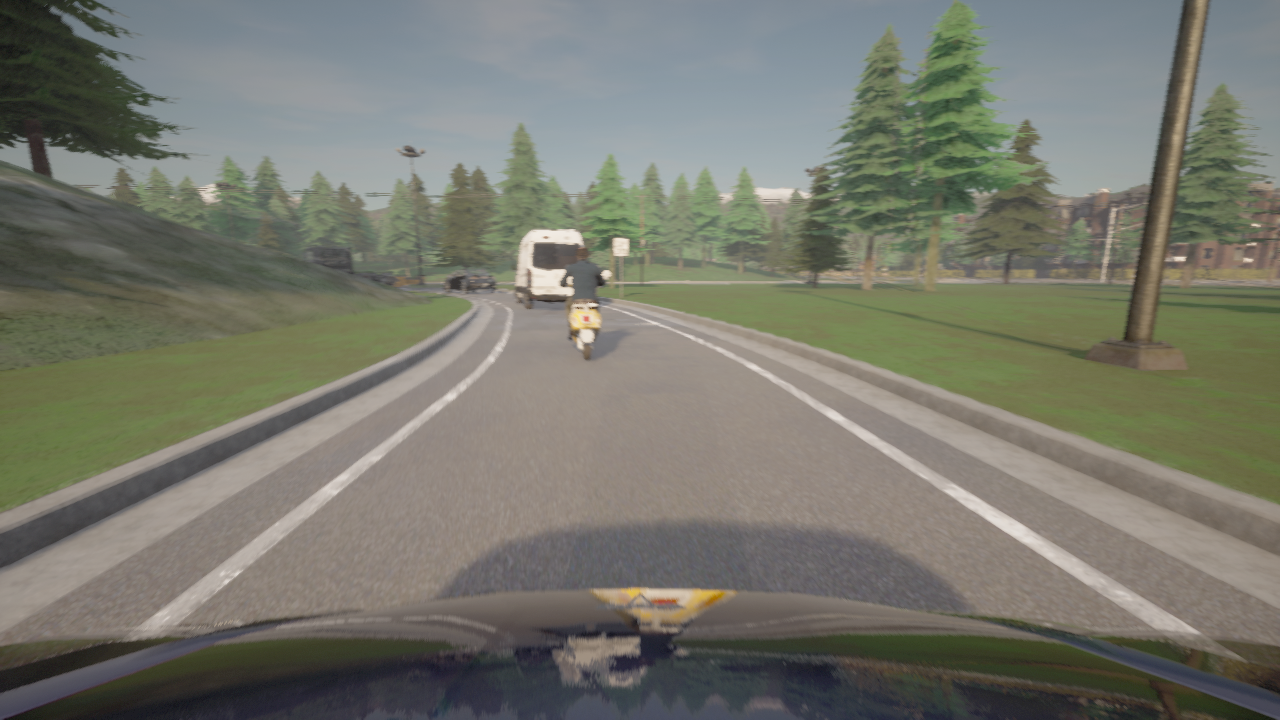cyclist: (0, 588, 1279, 719), (511, 229, 583, 309), (554, 271, 609, 360), (303, 246, 397, 285), (444, 268, 496, 294)
